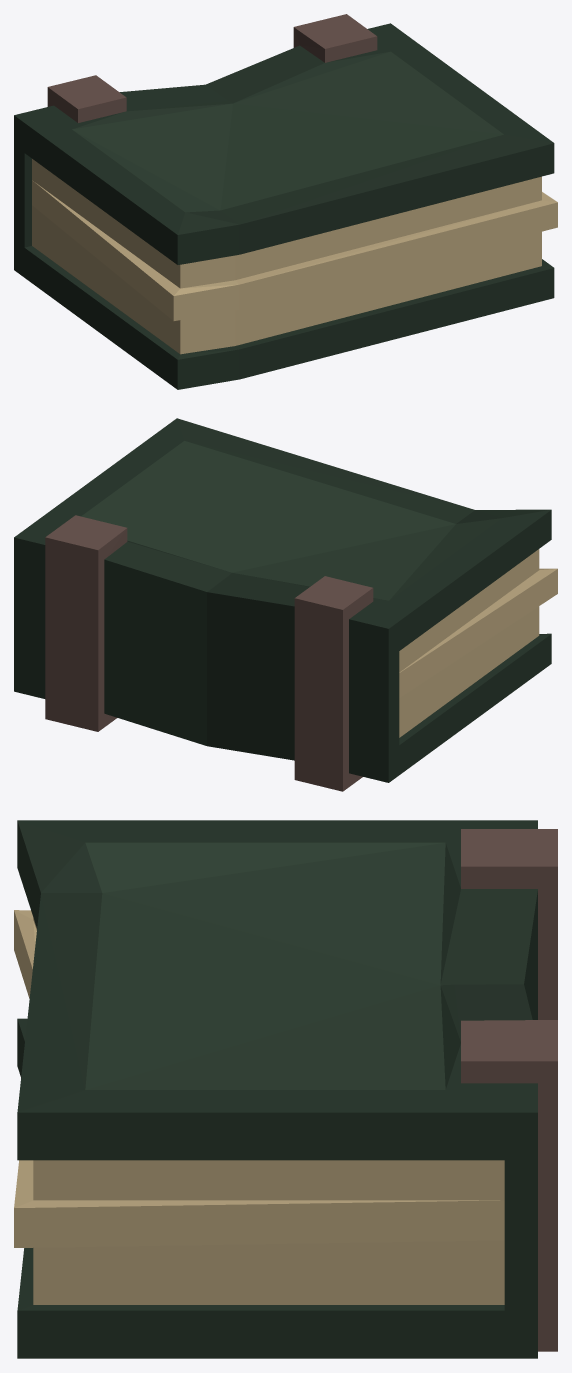
The model's file is book_b.glb.
The picture shows the model from 3 angles, top to bottom: view 1: azimuth 30°, elevation 25°; view 2: azimuth 150°, elevation 25°; view 3: azimuth 270°, elevation 25°; orthographic projection. The views are drawn at different scales.
Parts seen in each view (by area): view 1: SM_Prop_Book_02; view 2: SM_Prop_Book_02; view 3: SM_Prop_Book_02.
Part boxes in pixels (x1=…): SM_Prop_Book_02: x1=14, y1=14, x2=557, y2=389; SM_Prop_Book_02: x1=14, y1=418, x2=557, y2=791; SM_Prop_Book_02: x1=14, y1=820, x2=557, y2=1358.
Bounding box in the file's own units: 22.19 × 10.08 × 17.11.
1 material, 1 textured.
